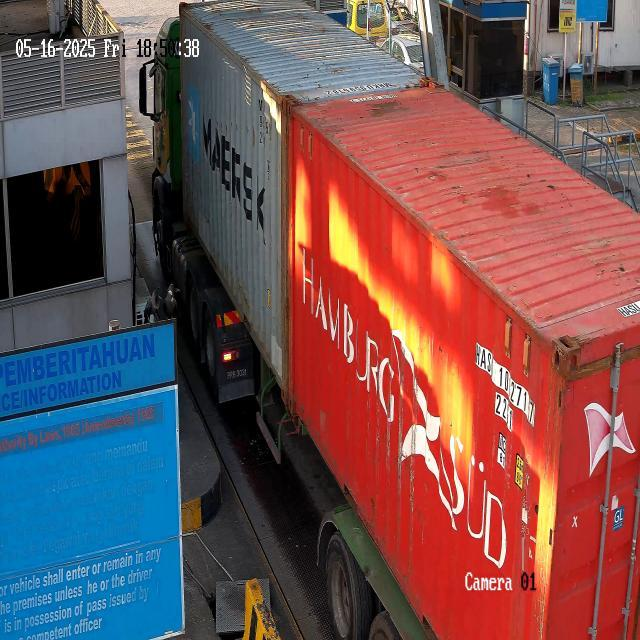ISO: (493, 392, 518, 436)
container_number: (466, 334, 540, 424)
